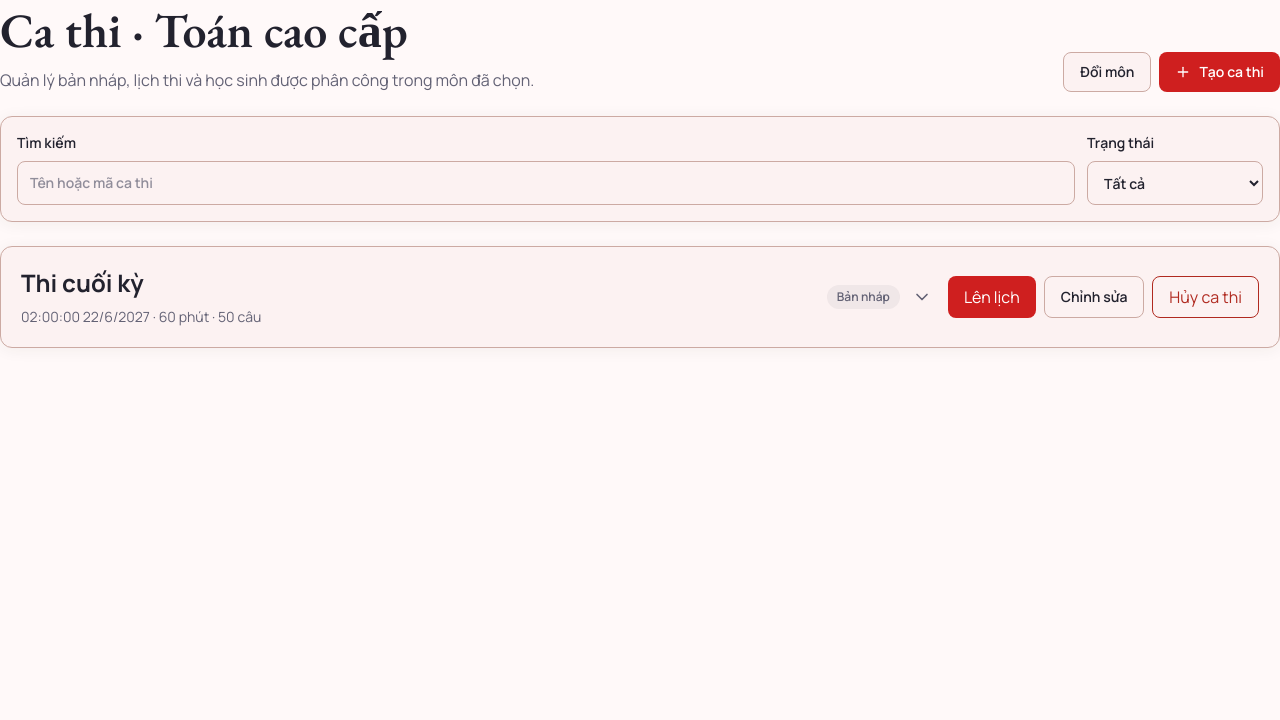
it: SubjectExamListPage › keeps the draft after a network scheduling failure
The width and height of the screenshot is (1280, 720).
Click the button "Lên lịch" at (992, 297), box x1=948 y1=276 x2=1036 y2=318
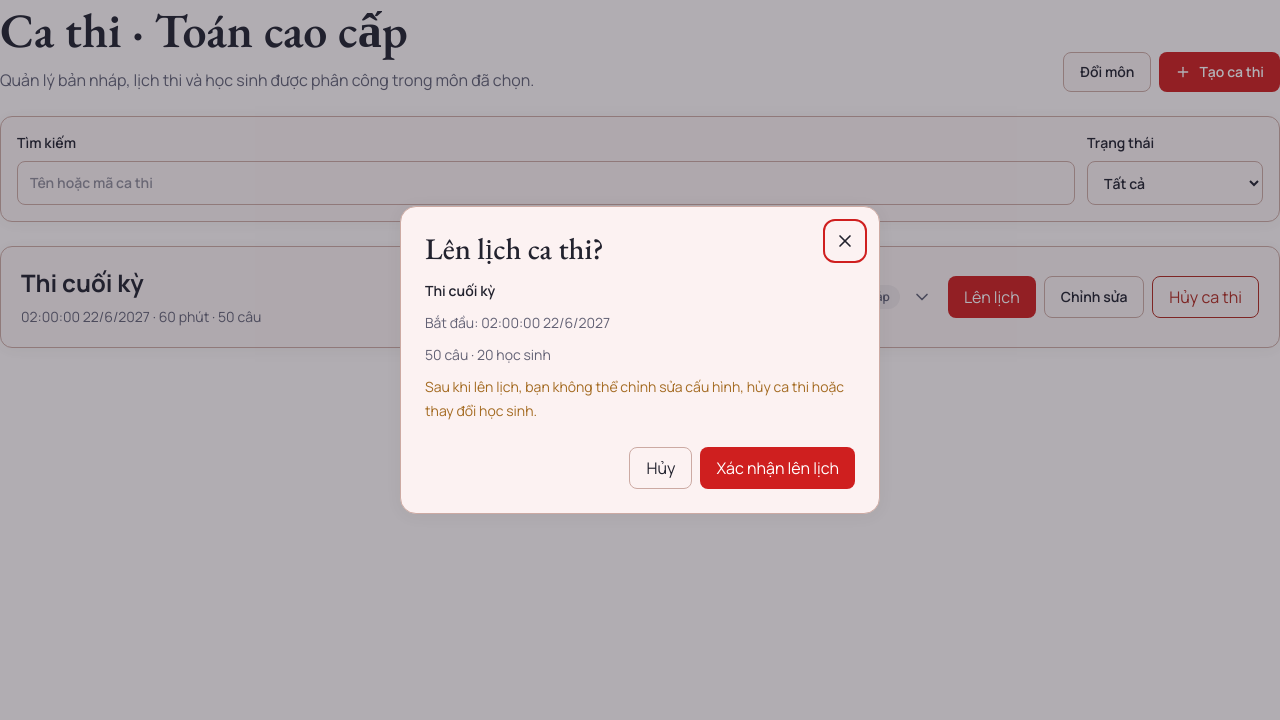
Click the button "Xác nhận lên lịch" at (778, 468), box x1=700 y1=447 x2=855 y2=489
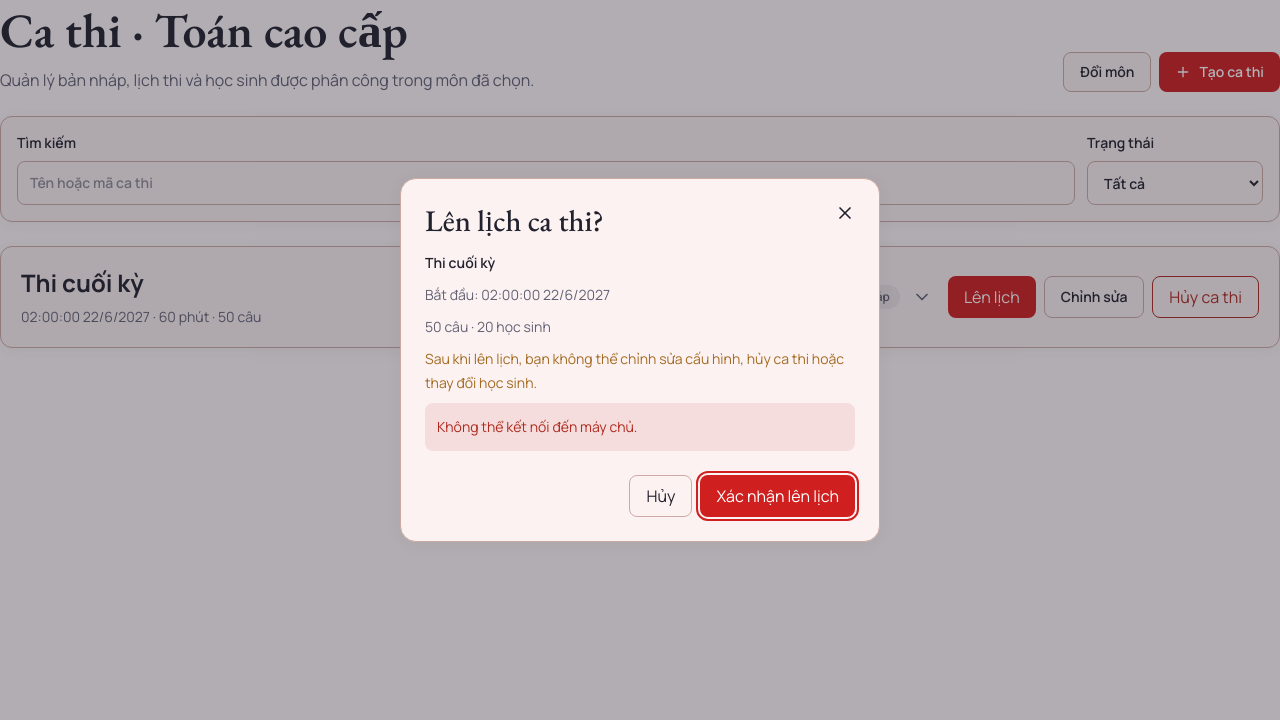
Expected: the message shows "Không thể kết nối đến máy chủ", x1=437 y1=417 x2=637 y2=436
